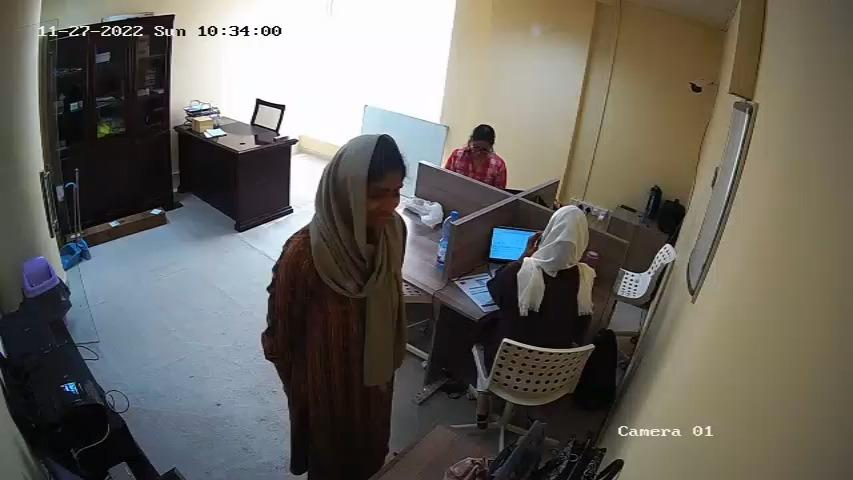no_apron: (296, 240, 401, 427)
